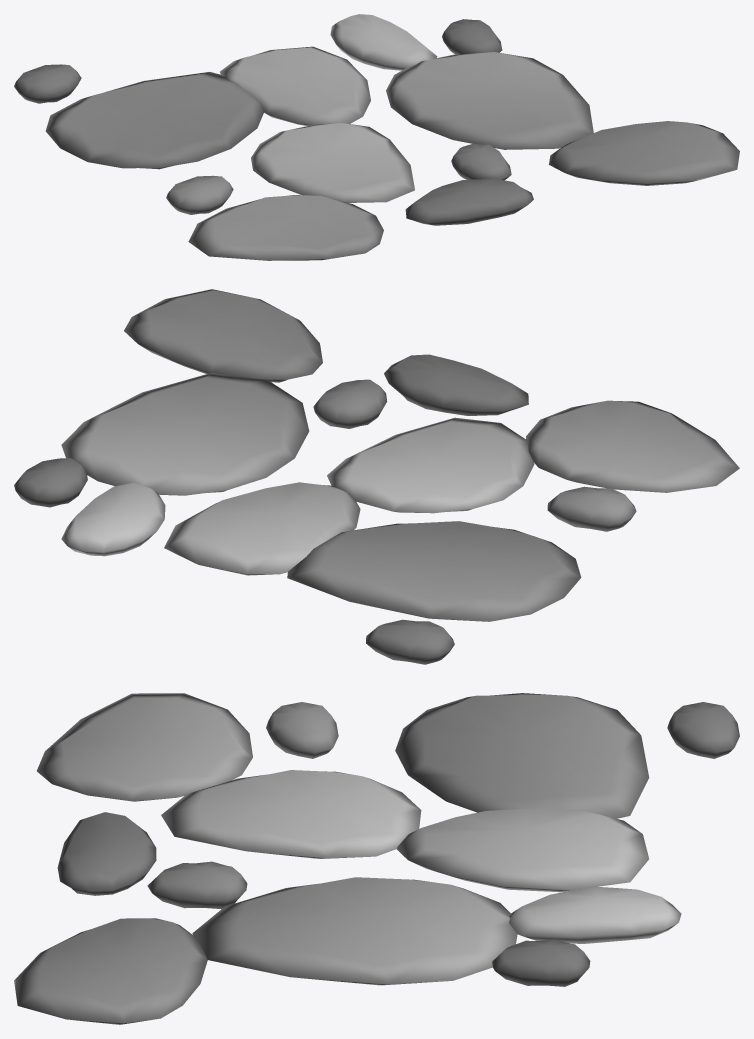
File: rocks.fbx
The picture shows the model from 3 angles, top to bottom: view 1: azimuth 30°, elevation 25°; view 2: azimuth 150°, elevation 25°; view 3: azimuth 270°, elevation 25°; orthographic projection. The views are drawn at different scales.
Visible parts, largest first — view 1: pCube99; view 2: pCube99; view 3: pCube99.
Part boxes in pixels (bbox=[...]): pCube99: bbox=[14, 14, 739, 260]; pCube99: bbox=[14, 289, 739, 664]; pCube99: bbox=[14, 693, 739, 1024].
Bounding box in the file's own units: 311 × 15.13 × 289.
